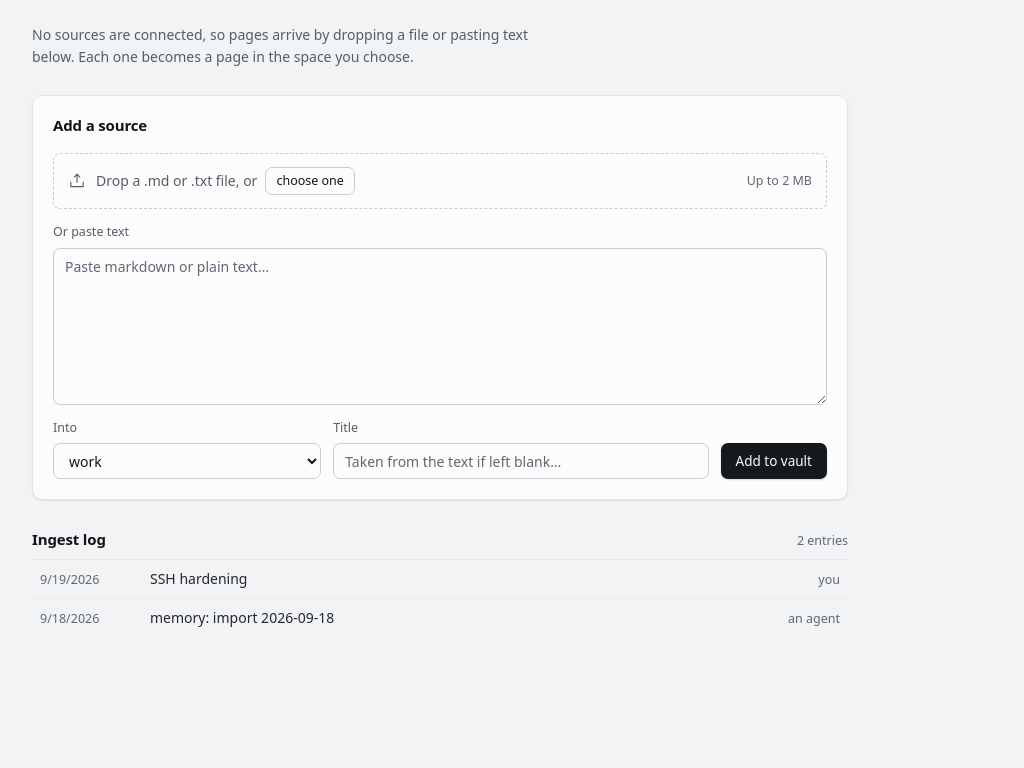
SourcesScreen › shows a friendly size-limit message on a 413 response
This screenshot has width=1024, height=768.
Expected: the text "No sources are connected" is shown, left=32, top=25, right=528, bottom=66
Type "Some pasted content." into the text box labelled "Or paste text" at coordinates (440, 326), box left=53, top=248, right=827, bottom=405
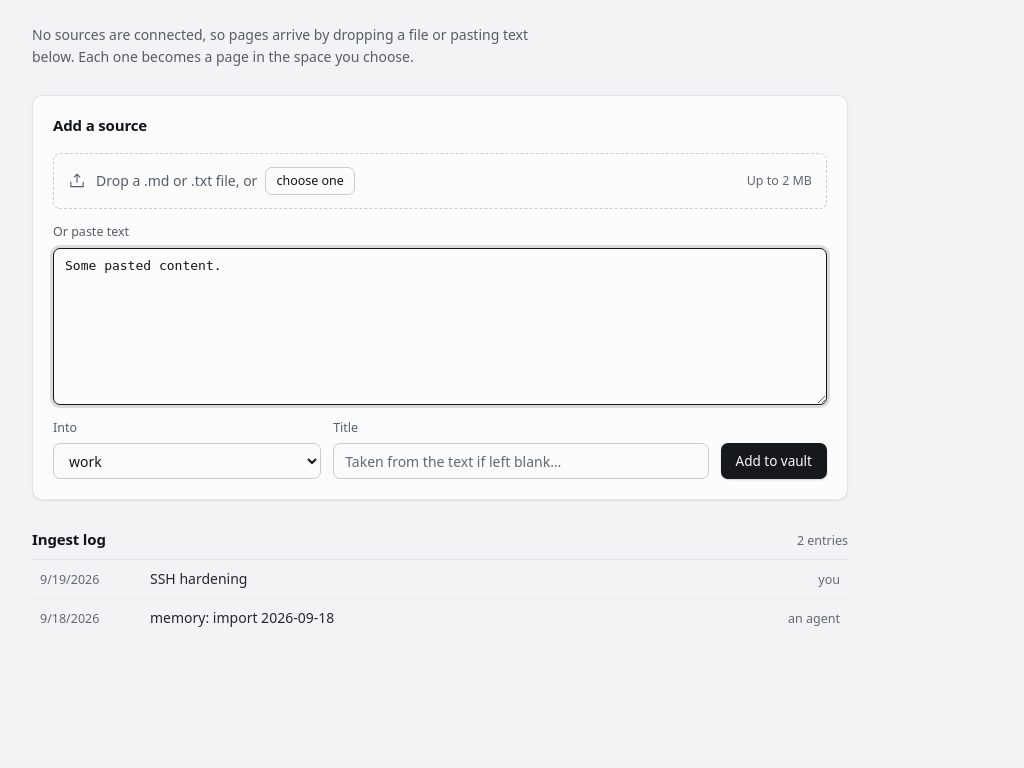
Click the button "Add to vault" at coordinates (774, 461), box left=720, top=443, right=827, bottom=479
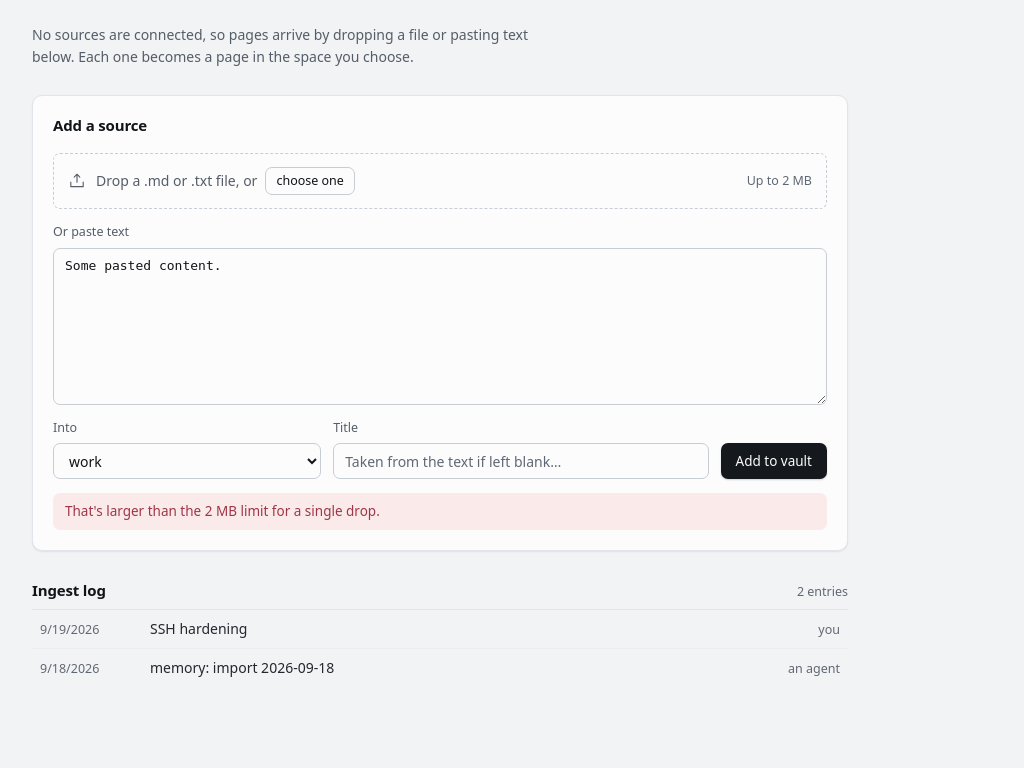
Expected: the text "That's larger than the 2 MB limit for a single drop." is shown, left=53, top=493, right=827, bottom=530
